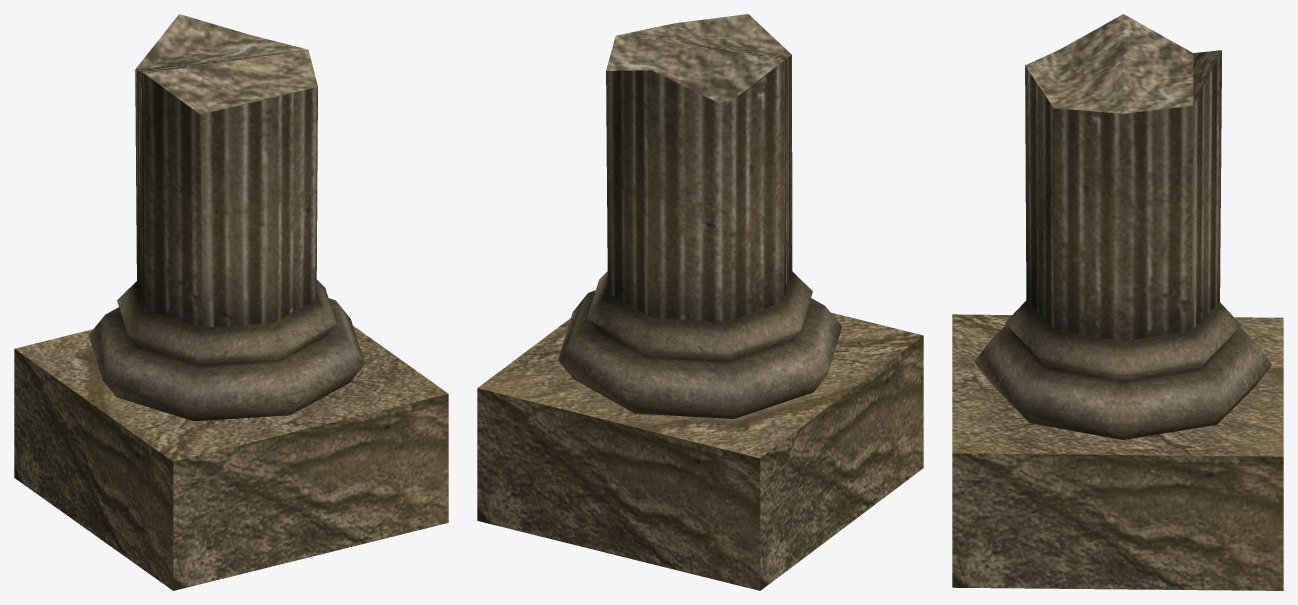
File: cot4.fbx
3 renders of one model, left to right at view 1: azimuth 30°, elevation 25°; view 2: azimuth 150°, elevation 25°; view 3: azimuth 270°, elevation 25°, orthographic. The views are drawn at different scales.
Parts seen in each view (by area): view 1: Object068; view 2: Object068; view 3: Object068.
Boxes of the visible parts, x1,y1,x2,y2 form: Object068: (14, 14, 448, 590); Object068: (477, 14, 923, 590); Object068: (952, 14, 1283, 590).
Bounding box in the file's own units: 248 × 389 × 248.
1 material, 1 textured.
